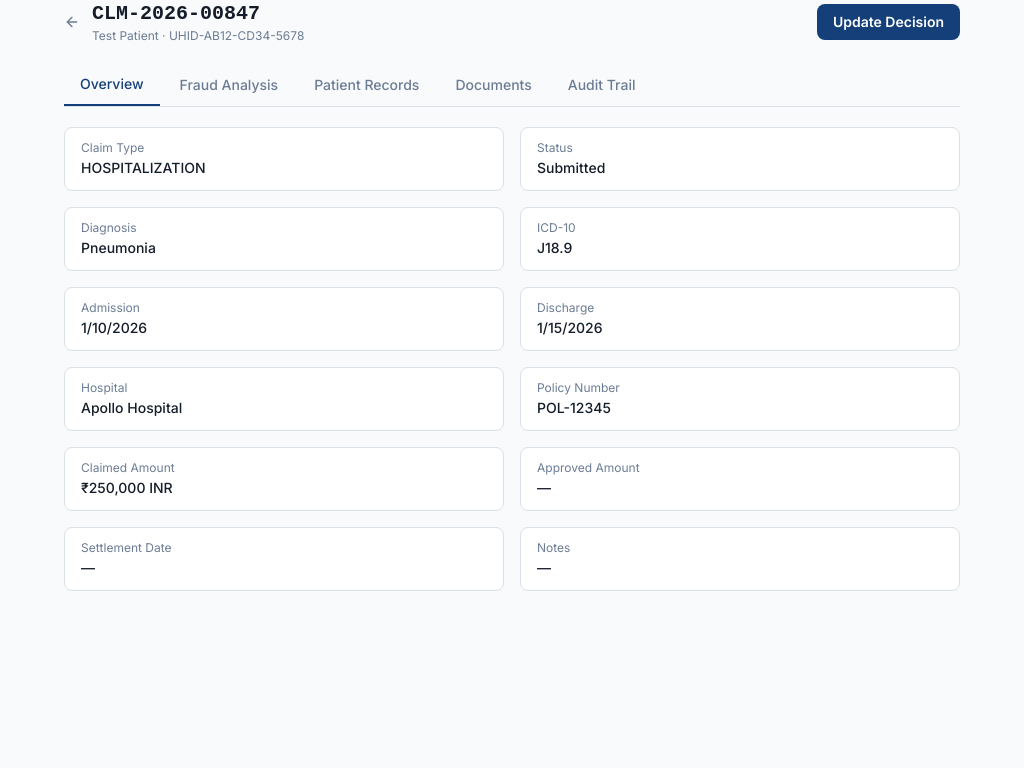
Scenario: ClaimDetailPage › clicking "Update Decision" opens DecisionDialog
This screenshot has width=1024, height=768.
Click the button with test id "update-decision-btn". click: coordinates (888, 22)
box: [817, 4, 960, 40]
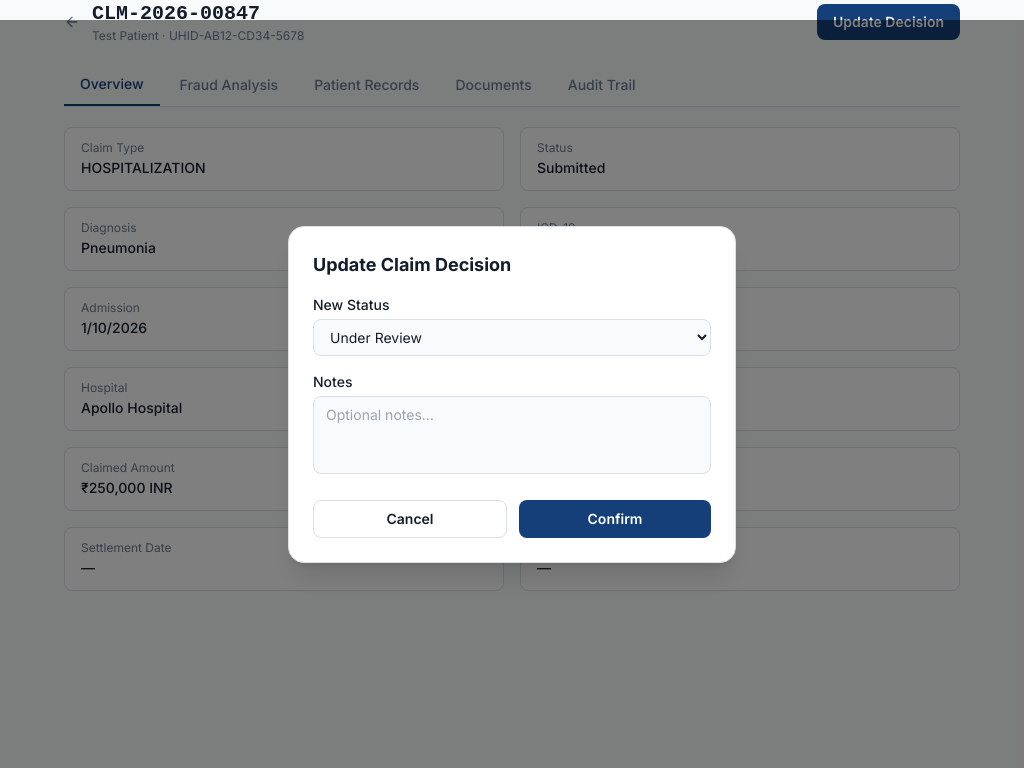
Check: the element with test id "decision-dialog" is shown, box [288, 226, 736, 562]
